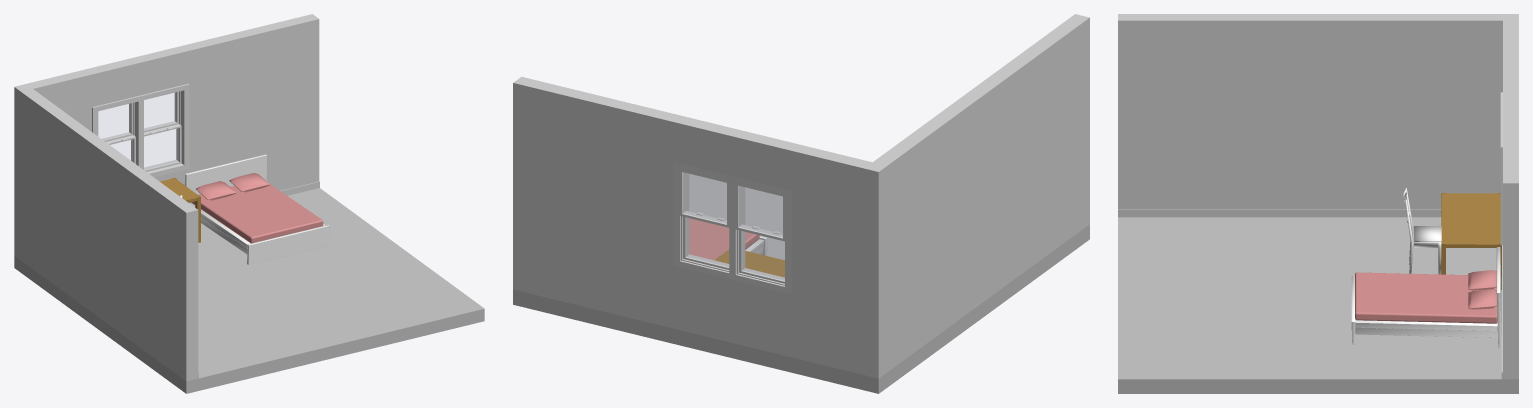
The model's file is L16_W16_furniture2_circulation2.glb.
3 views of the same model, side by side, from view 1: azimuth 30°, elevation 25°; view 2: azimuth 150°, elevation 25°; view 3: azimuth 270°, elevation 25° (orthographic). The views are drawn at different scales.
Bounding box in the file's own units: 200 × 116 × 200.
